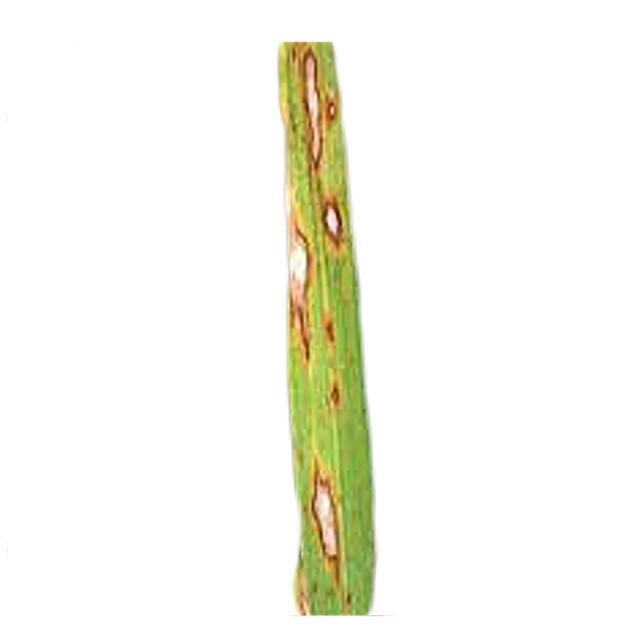Leaf blast: (307, 454, 358, 574), (292, 46, 340, 172), (286, 215, 322, 369), (320, 194, 354, 255), (324, 379, 346, 413), (324, 314, 338, 349)
